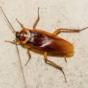cockroach: (13, 26, 74, 60)
